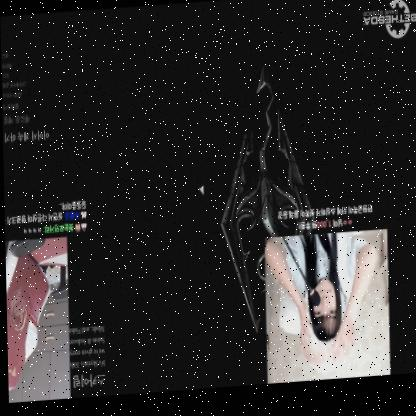donation: (263, 206, 388, 389)
